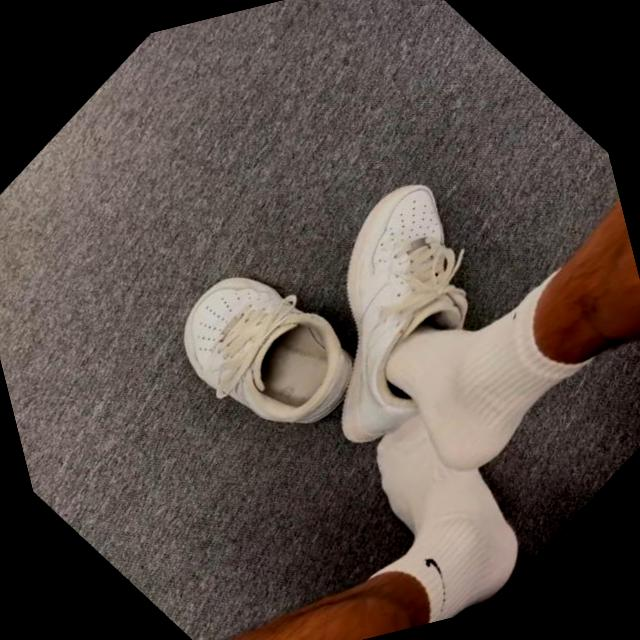nike_original_airforce: (213, 136, 584, 491), (130, 214, 400, 489)
